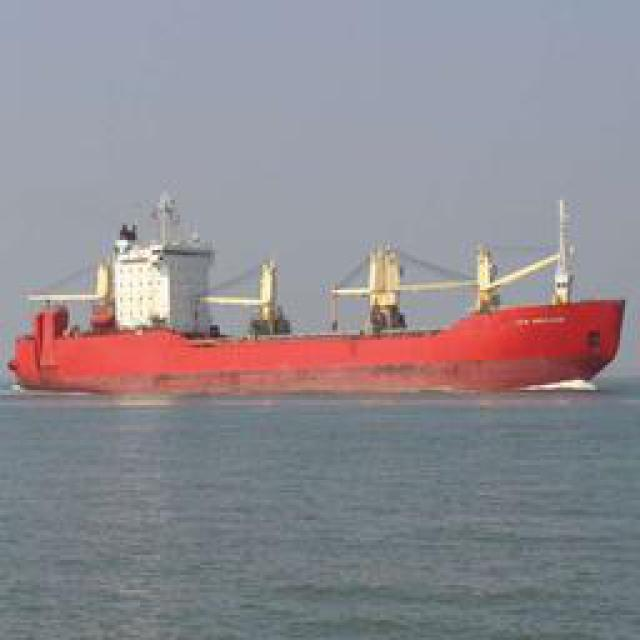Ship: (23, 203, 628, 398)
